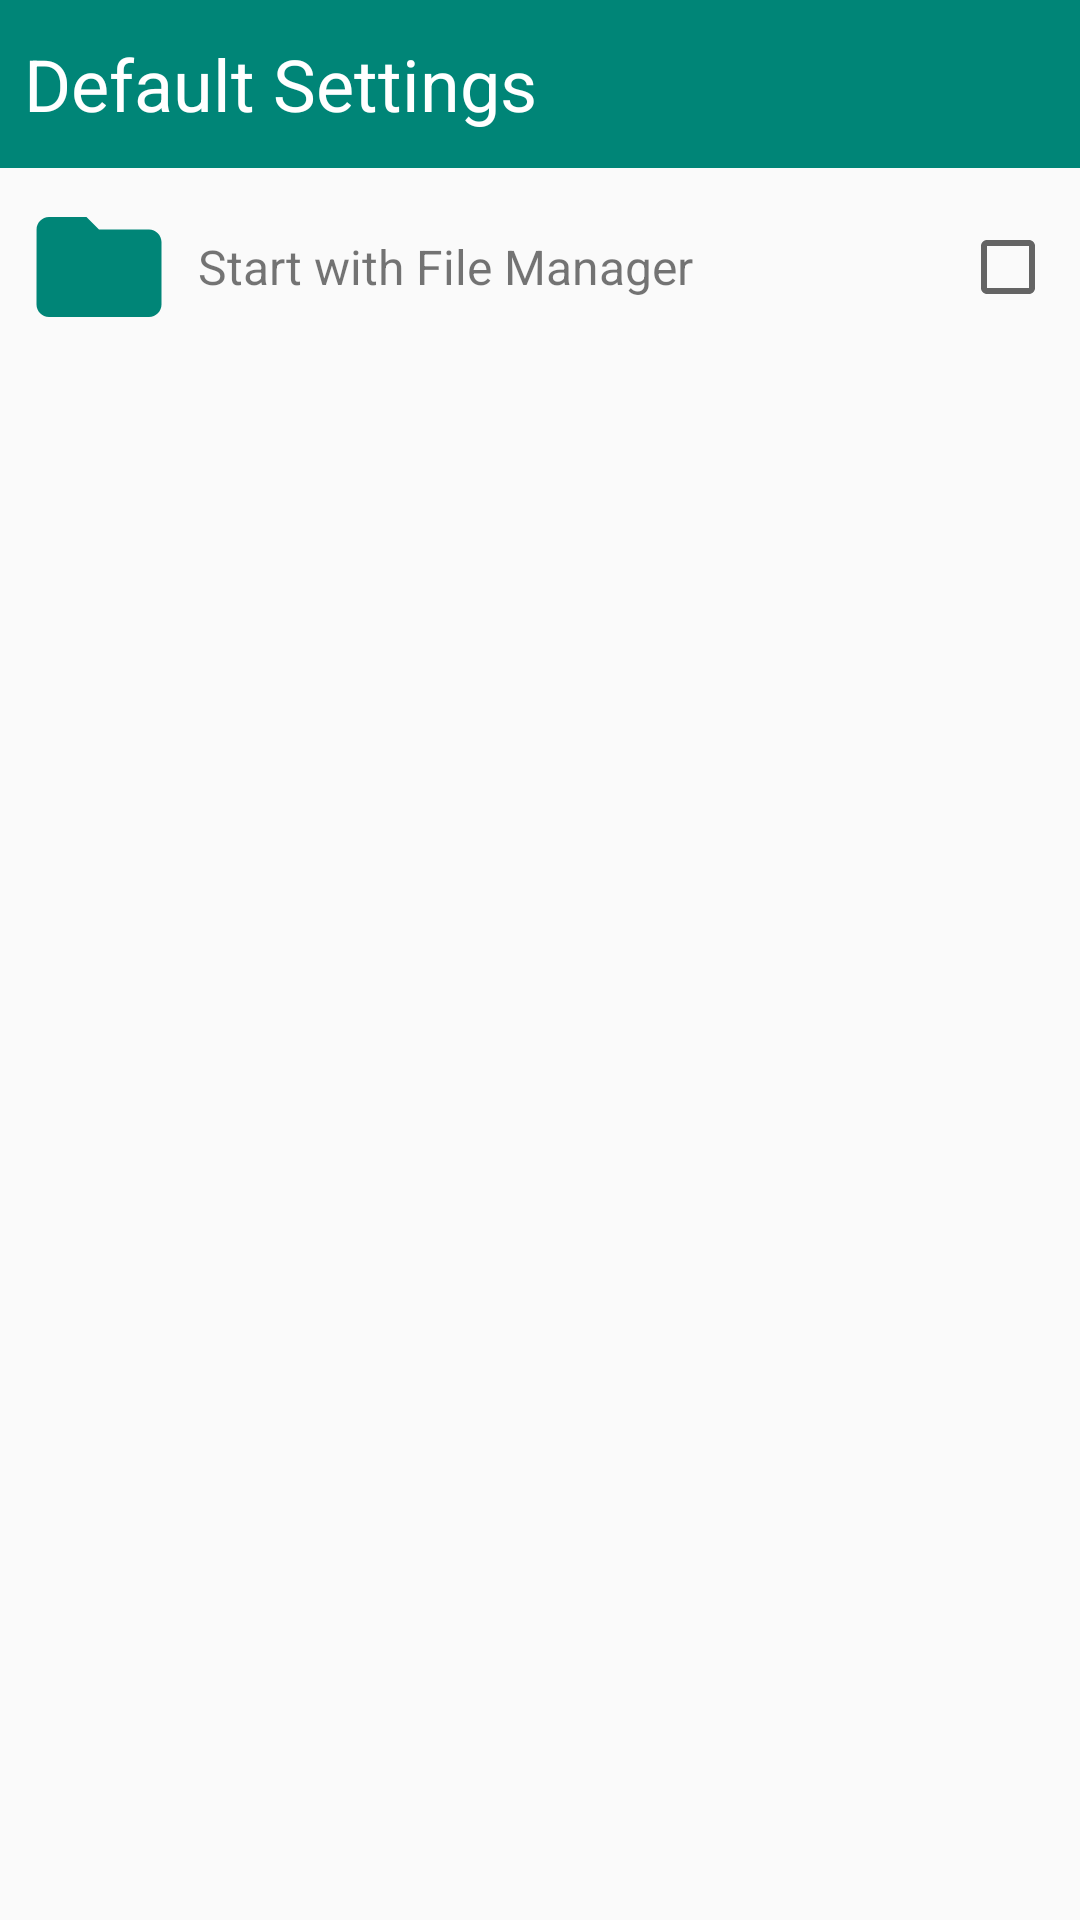

Named icons in this screenshot (1080*1920) and their bounding boxes, [x1, y1, x2, y2]:
folder activity file manager: [36, 217, 162, 317]
